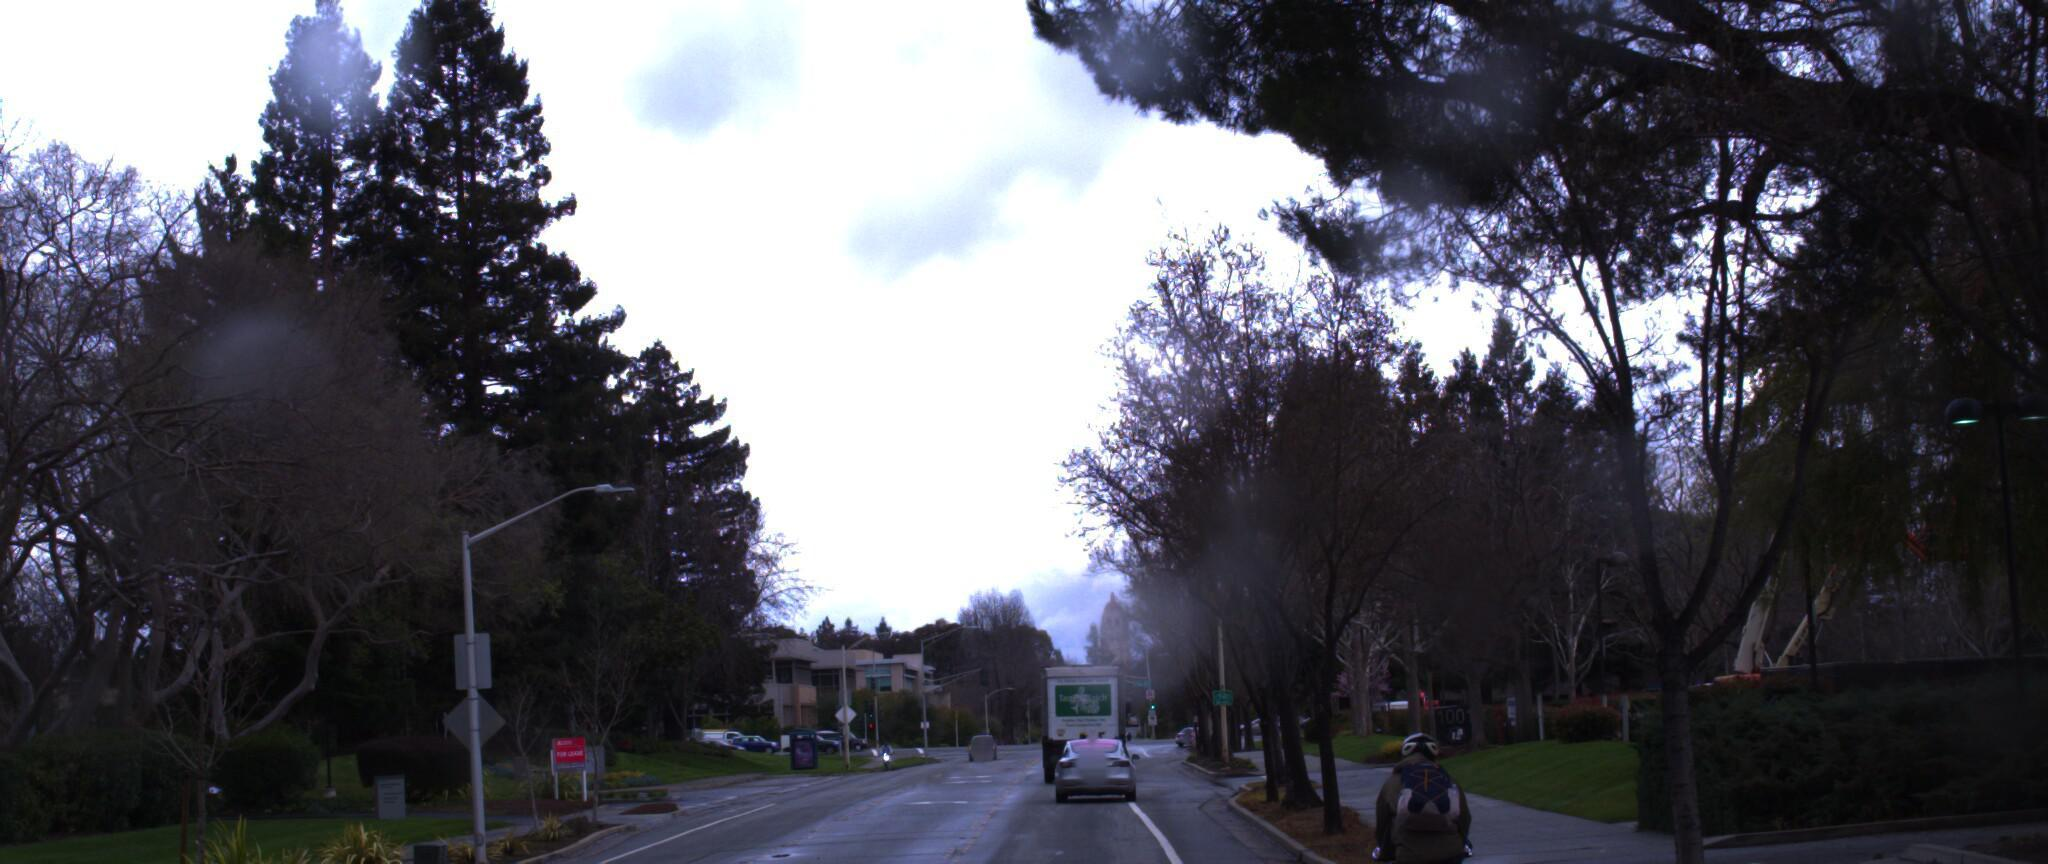bicycle: (1348, 723, 1512, 864)
car: (1064, 743, 1145, 817)
